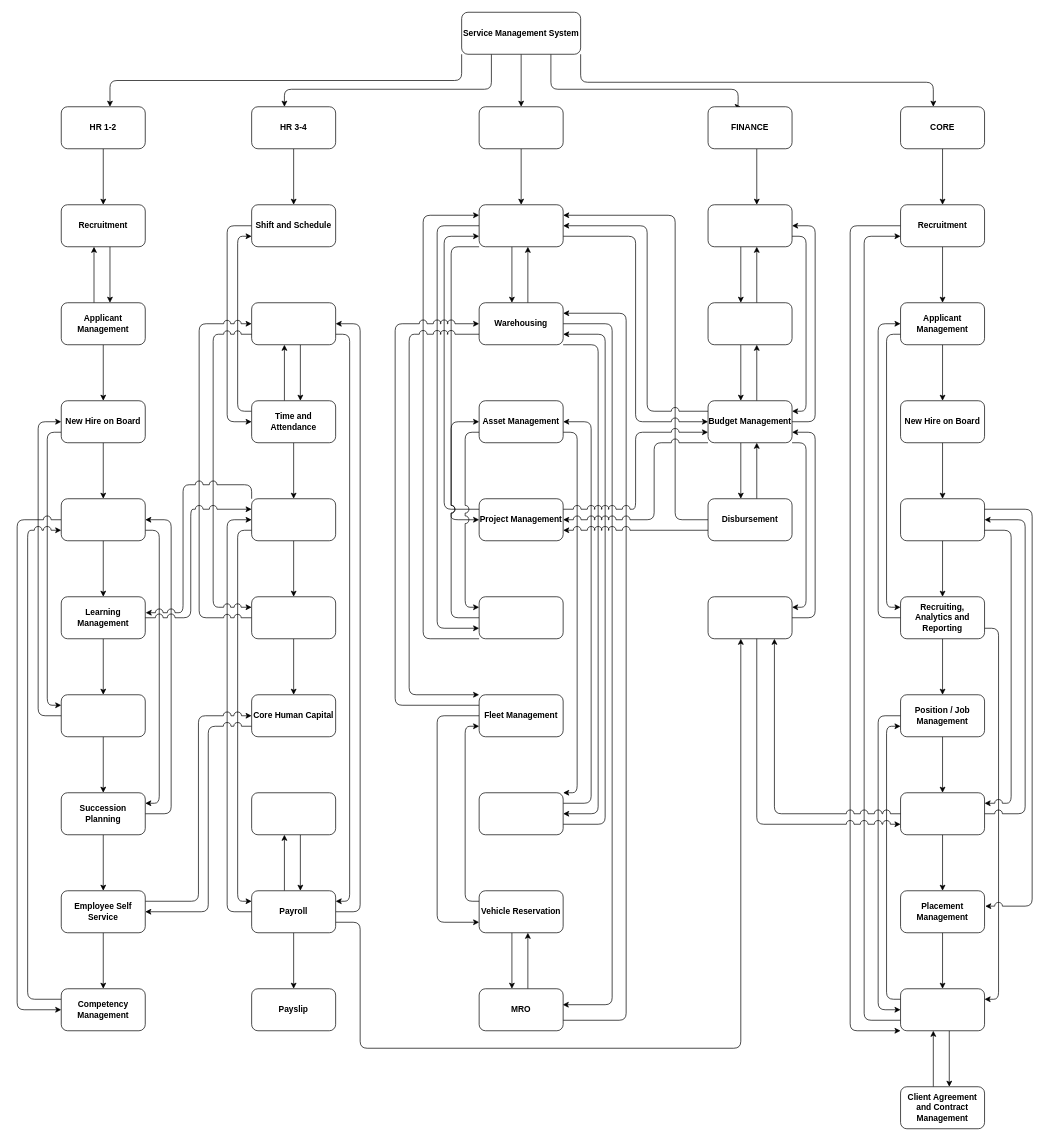
Some shapes in this 1050 by 1141 pixel diagram are drawn without their labels. The shapes that lost their labels are listed below. From the top down, each one's box as (x1, y1, x2, y2) in pixels, then its label:
(478, 106, 563, 149): LOGISTIC
(478, 204, 563, 247): Procurement
(707, 204, 792, 247): General Ledger
(251, 302, 336, 345): Timesheet
(707, 302, 792, 345): AP/AR
(61, 498, 145, 541): Social Recognition
(251, 498, 336, 541): Claims and Reimbursement
(900, 498, 985, 541): Employee Management
(251, 596, 336, 639): Leave Management
(478, 596, 563, 639): Vendor Portal
(707, 596, 792, 639): Collection
(61, 694, 145, 737): Training Management
(251, 792, 336, 835): Compensation Plan
(478, 792, 563, 835): Audit Management
(900, 792, 985, 835): Payroll / Payment Management
(900, 988, 985, 1031): Client Management
